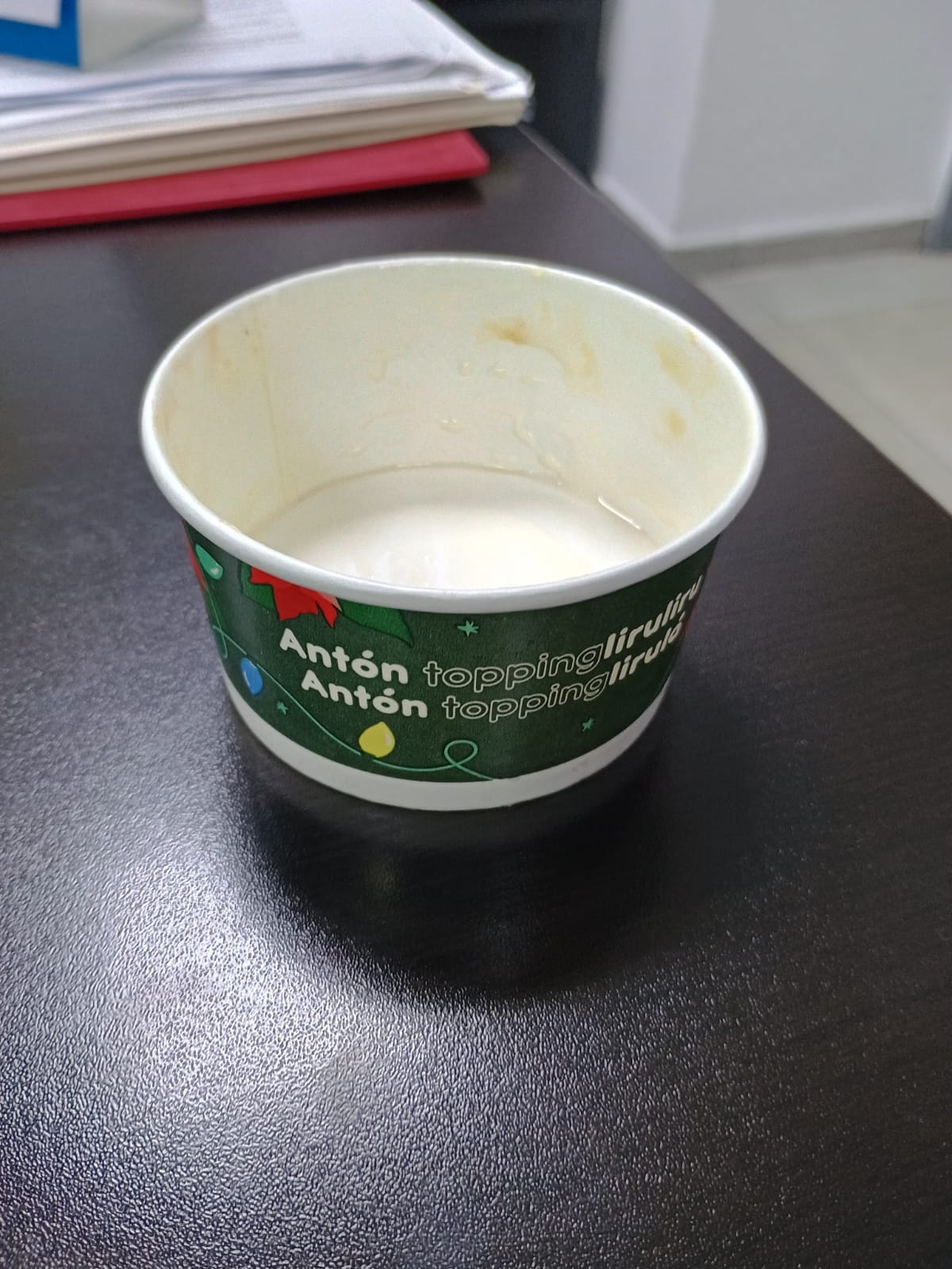Carton: (142, 253, 767, 816)
